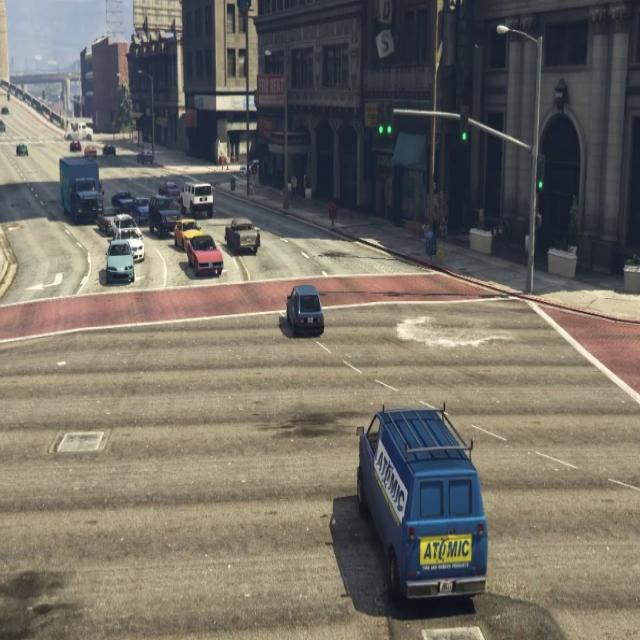Green-Signal: (374, 91, 397, 150), (534, 144, 550, 206), (458, 99, 472, 156)
